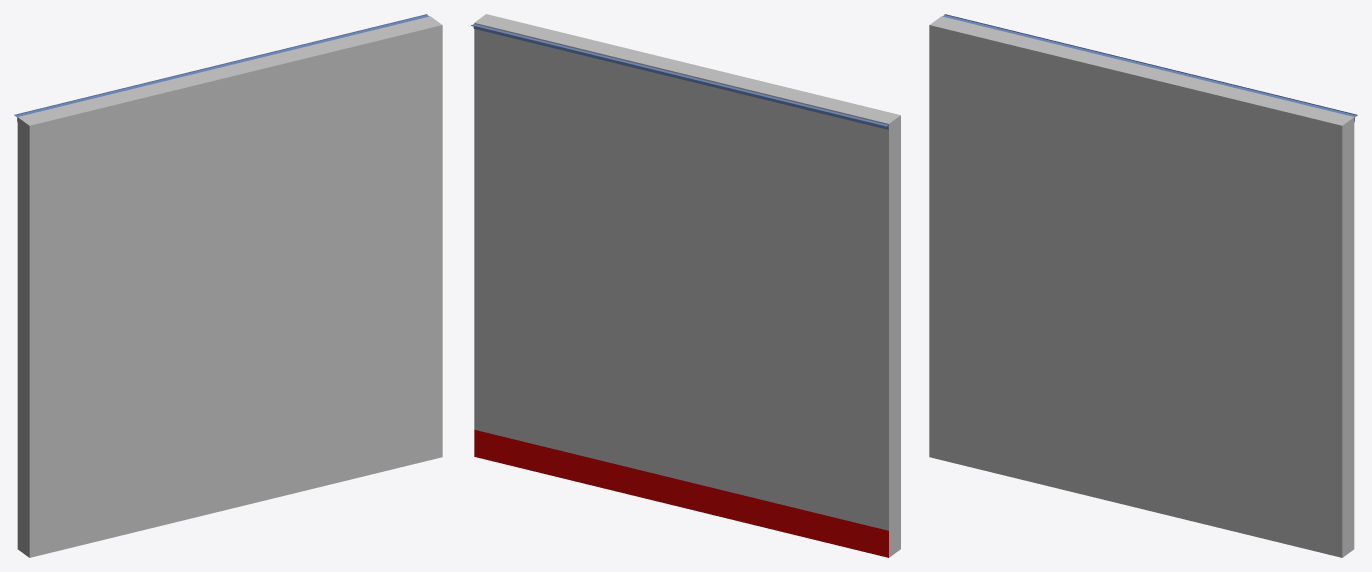
File: Wall_04_Snaps014.fbx
3 renders of one model, left to right at view 1: azimuth 30°, elevation 25°; view 2: azimuth 150°, elevation 25°; view 3: azimuth 330°, elevation 25°, orthographic.
Visible parts, largest first — view 1: Wall_04_LOD00; view 2: Wall_04_LOD00; view 3: Wall_04_LOD00.
Boxes of the visible parts, bbox=[...] form: Wall_04_LOD00: bbox=[14, 14, 442, 557]; Wall_04_LOD00: bbox=[471, 14, 900, 557]; Wall_04_LOD00: bbox=[929, 14, 1357, 557].
Size of the model in its own units: 400 by 400 by 25.32.
